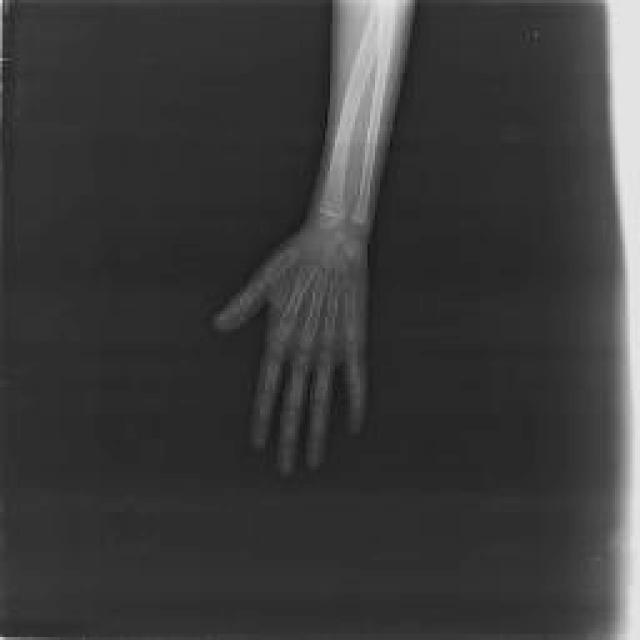normal: (215, 3, 396, 475)
